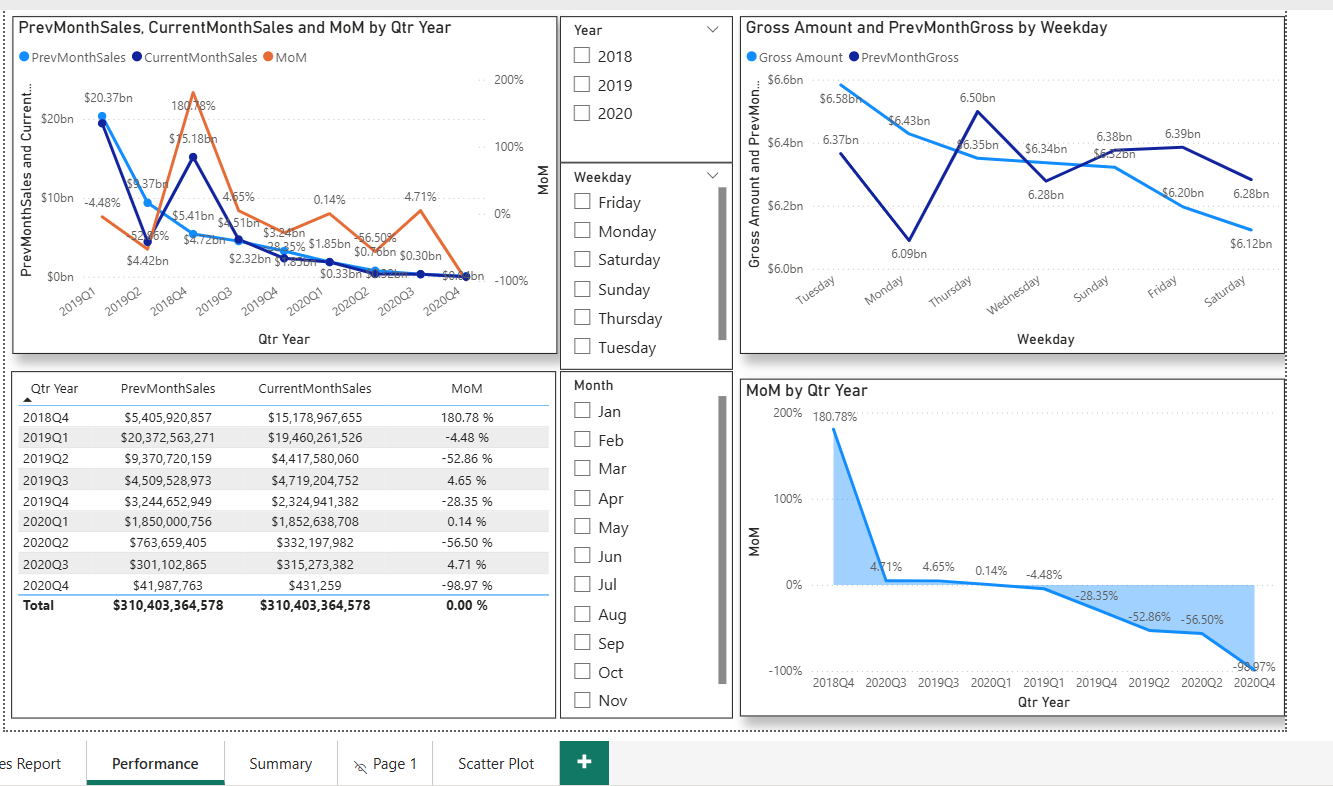

What the dashboard file says about the page in this screenshot:
{"tool":"powerbi","page":{"name":"Performance","canvas":[1280,720],"ordinal":1},"visuals":[{"type":"lineChart","fields":{"Category":["Calender.Qtr Year"],"Y":["Measures Table.PrevMonthSales","Measures Table.Net Profit"],"Y2":["Measures Table.MoM"]},"box":[7.5,6.2,545,337.5],"z":0},{"type":"tableEx","fields":{"Values":["Calender.Qtr Year","Measures Table.PrevMonthSales","Measures Table.Net Profit","Measures Table.MoM"]},"box":[6.2,361.2,545,347.5],"z":1000},{"type":"lineChart","fields":{"Category":["Calender.Weekday"],"Y":["Measures Table.Gross Amount","Measures Table.PrevMonthGross"]},"box":[735,6.2,545,337.5],"z":2000},{"type":"slicer","fields":{"Values":["Calender.Year"]},"box":[555,6.2,172.5,146.2],"z":3000},{"type":"slicer","fields":{"Values":["Calender.Month"]},"box":[555,361.2,172.5,347.5],"z":4000},{"type":"slicer","fields":{"Values":["Calender.Weekday"]},"box":[555,152.5,172.5,207.5],"z":5000},{"type":"areaChart","fields":{"Category":["Calender.Qtr Year"],"Y":["Measures Table.MoM"]},"box":[735,368.8,545,337.5],"z":6000}]}

Visuals, with their boxes in screenshot pixels (x1, y1, x2, y2):
lineChart - Calender.Qtr Year x Measures Table.PrevMonthSales: 18 17 558 351
tableEx - Calender.Qtr Year x Measures Table.PrevMonthSales: 17 368 556 712
lineChart - Calender.Weekday x Measures Table.Gross Amount: 739 17 1278 351
slicer - Calender.Year: 560 17 731 161
slicer - Calender.Month: 560 368 731 712
slicer - Calender.Weekday: 560 161 731 367
areaChart - Calender.Qtr Year x Measures Table.MoM: 739 376 1278 710
